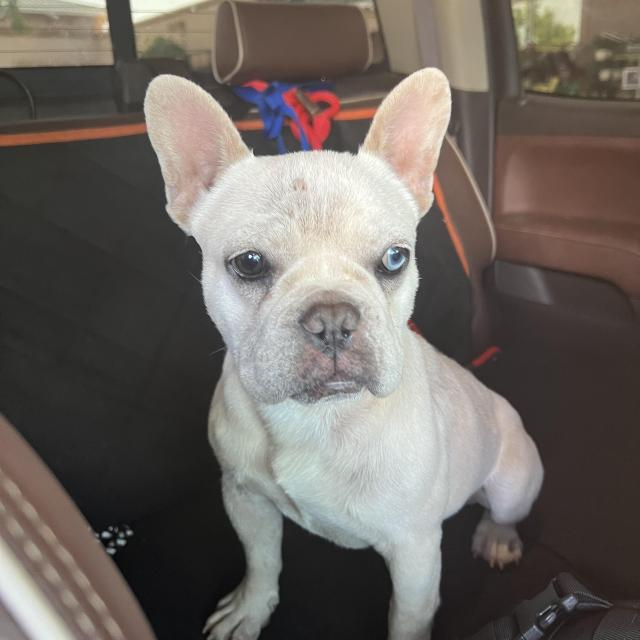french_bulldog_dog: (139, 63, 459, 419)
